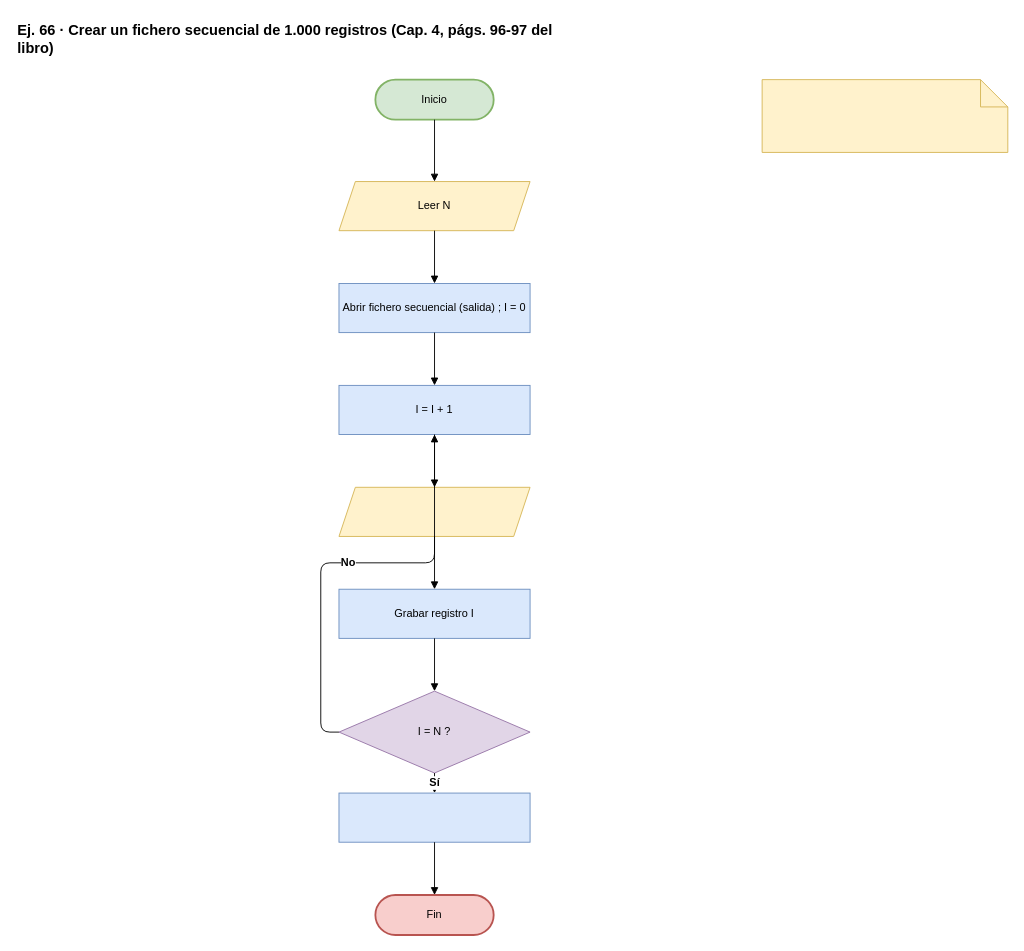
Image size: 1024x951. Some labels were removed from this diagram. Each missing label, with the box of its shape:
Cerrar fichero: (338, 792, 530, 842)
Leer nombre, teléfono: (338, 486, 530, 536)
Lista de variables N = nº de registros I = nº de registro actual: (761, 79, 1008, 152)
